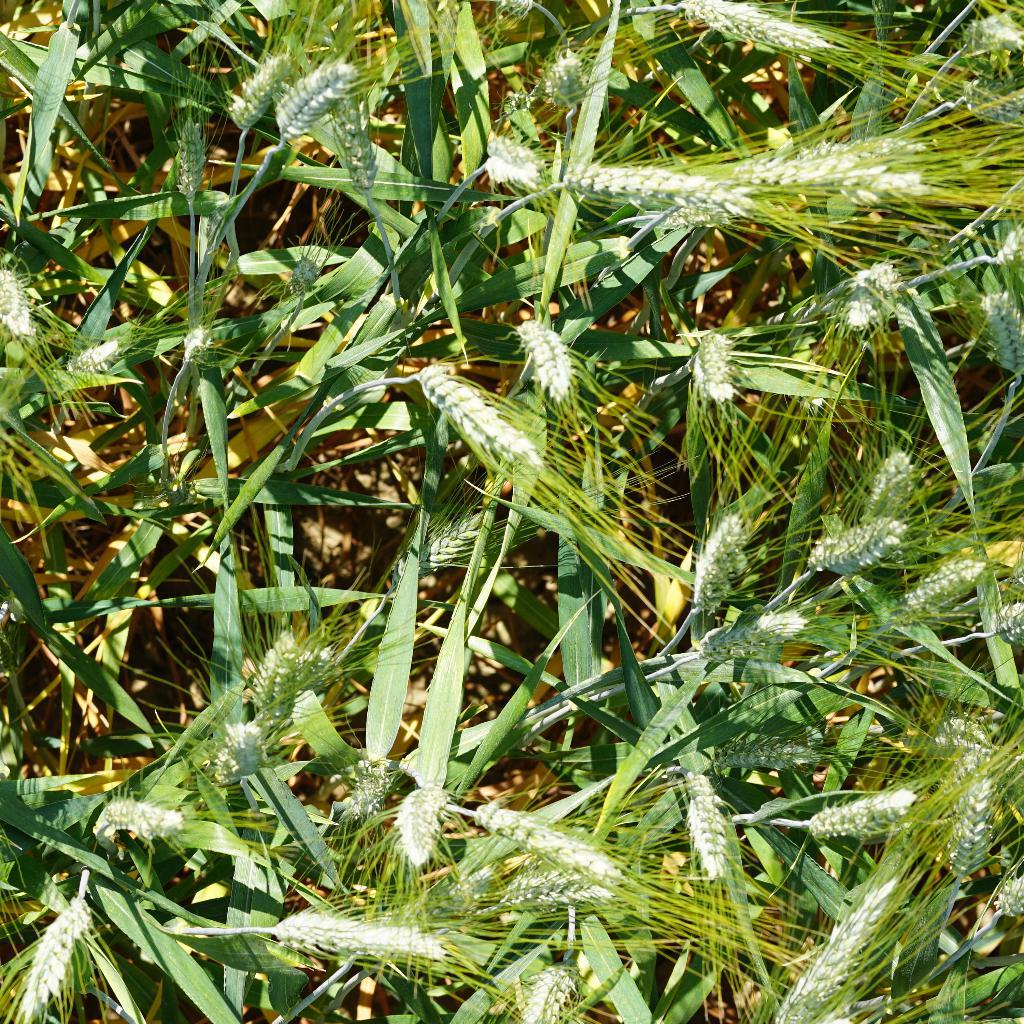0-0: (761, 878, 920, 1024), (544, 139, 757, 219), (411, 359, 546, 471), (10, 879, 103, 1024), (268, 901, 458, 971), (467, 807, 623, 882), (677, 0, 845, 68), (82, 768, 191, 864), (314, 61, 386, 203), (675, 499, 752, 621), (683, 597, 815, 666), (504, 307, 594, 408), (393, 494, 493, 583), (681, 310, 762, 417), (724, 138, 867, 198), (885, 542, 996, 617), (851, 437, 944, 524), (821, 243, 904, 333), (795, 508, 908, 574), (280, 53, 359, 144), (710, 724, 838, 780), (221, 38, 291, 138), (489, 955, 586, 1024), (675, 762, 733, 871), (803, 781, 920, 834), (190, 706, 266, 787), (389, 776, 452, 866), (952, 763, 997, 888), (250, 620, 298, 735), (56, 313, 127, 388), (533, 42, 599, 122), (266, 234, 335, 310), (503, 877, 613, 923), (925, 697, 1005, 757), (161, 103, 212, 197), (473, 131, 549, 194), (971, 287, 1024, 377), (336, 746, 392, 830), (859, 154, 937, 212), (961, 0, 1024, 63), (0, 250, 40, 346), (291, 621, 335, 702), (983, 860, 1024, 938), (171, 318, 217, 366), (983, 595, 1024, 644), (156, 470, 196, 510), (498, 88, 536, 115)
